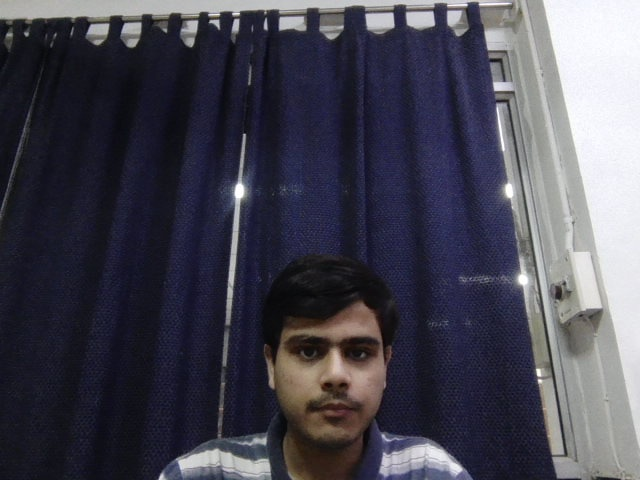face: (264, 255, 395, 448)
